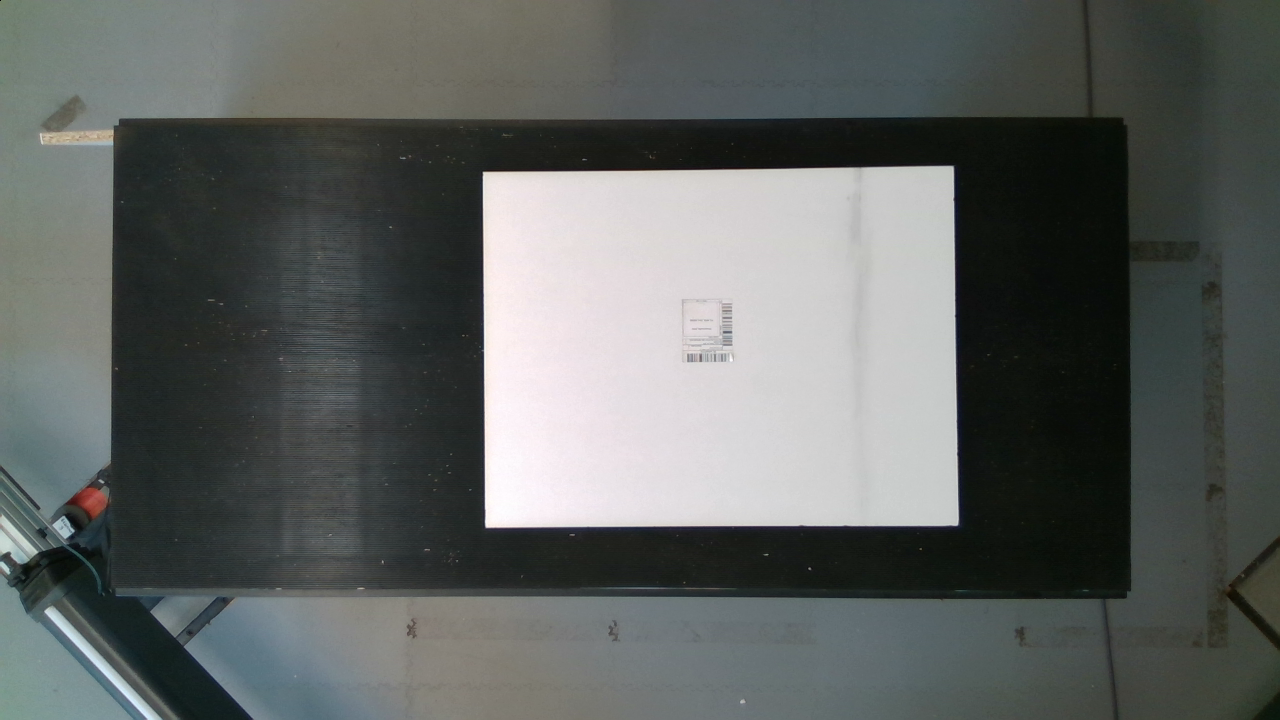barcode: (673, 286, 739, 368)
part2: (473, 155, 974, 539)
